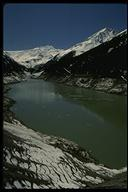mountain: (7, 21, 126, 69)
sky: (5, 3, 86, 38)
snow: (14, 50, 50, 65)
water: (9, 68, 126, 170)
